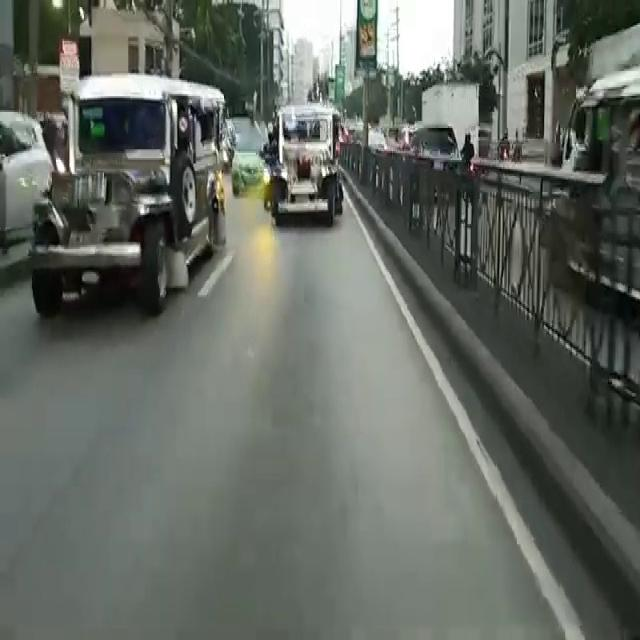car: (408, 126, 463, 195)
jeepney: (41, 86, 228, 324), (541, 77, 640, 302), (279, 104, 363, 243)
motorcycle: (461, 135, 481, 211)
truck: (427, 86, 483, 164)
